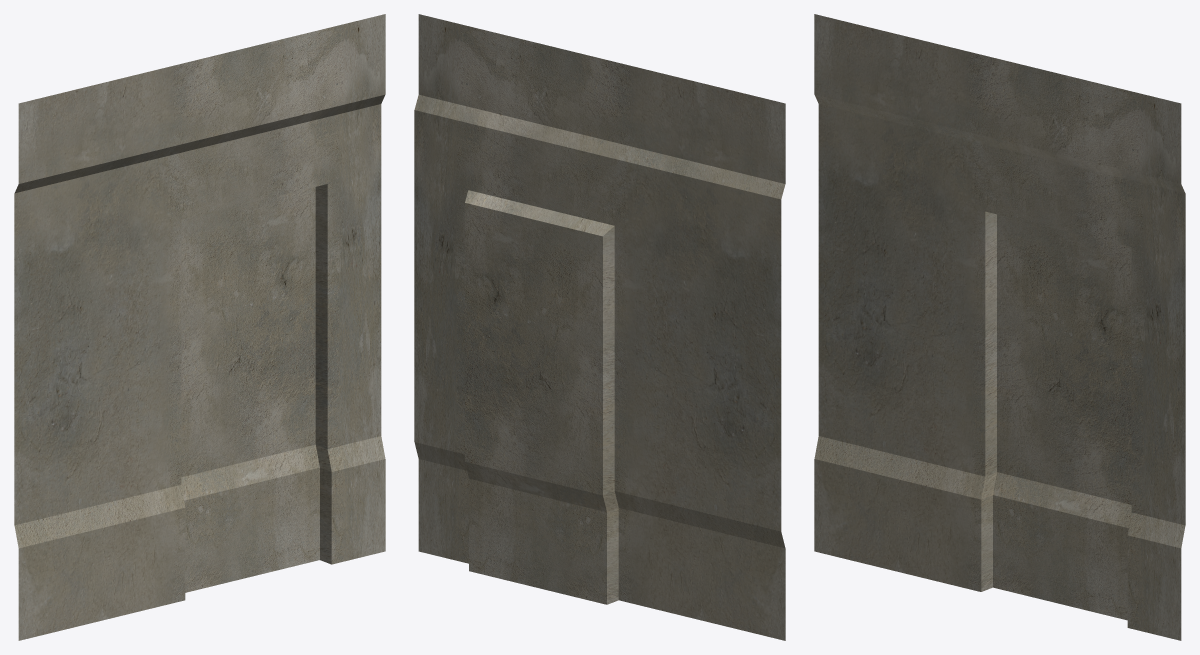
The model's file is wall_c.obj.
The picture shows the model from 3 angles, left to right: view 1: azimuth 30°, elevation 25°; view 2: azimuth 150°, elevation 25°; view 3: azimuth 330°, elevation 25°; orthographic projection.
Visible parts, largest first — view 1: wall_c; view 2: wall_c; view 3: wall_c.
Part boxes in pixels (bbox=[...]): wall_c: bbox=[14, 14, 385, 640]; wall_c: bbox=[414, 14, 785, 640]; wall_c: bbox=[814, 14, 1185, 640].
Bounding box in the file's own units: 2 × 2.8 × 0.1111.
